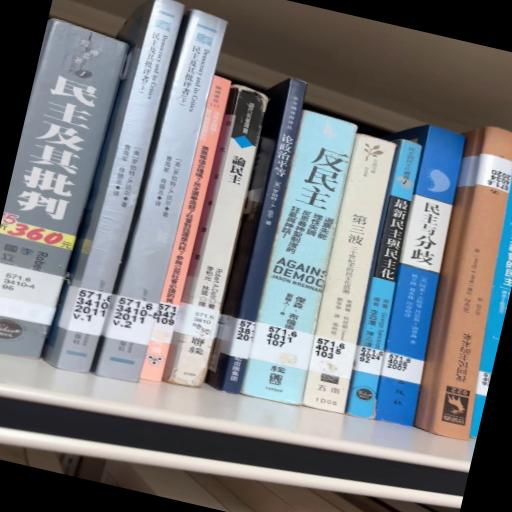reverse: (415, 128, 512, 441)
